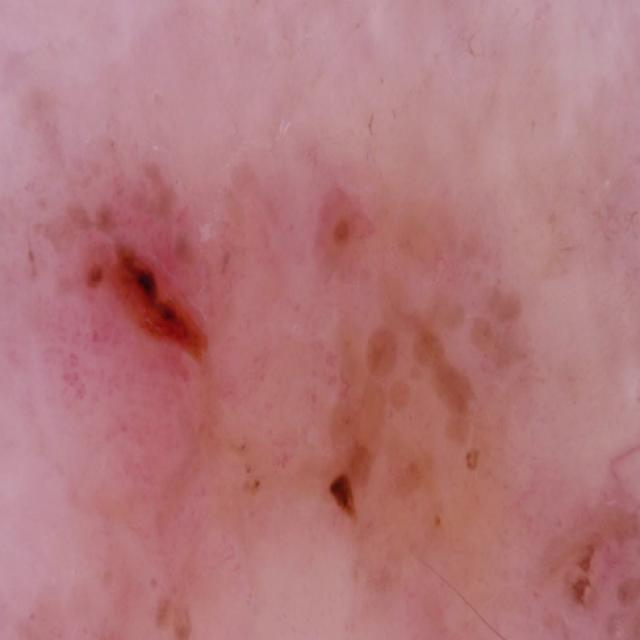Carcinoma: (292, 179, 527, 567), (61, 168, 236, 407), (557, 511, 640, 640)
